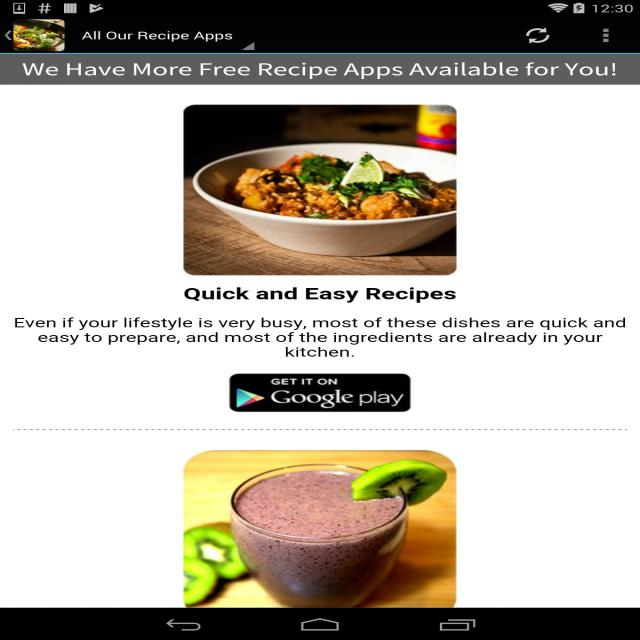button: (229, 373, 412, 412), (79, 22, 256, 52), (514, 24, 556, 47), (594, 23, 620, 48), (0, 17, 13, 51)
heading: (12, 315, 638, 359), (23, 61, 619, 81), (178, 283, 462, 305)
image: (182, 105, 456, 274), (180, 448, 457, 608), (16, 20, 69, 51)
